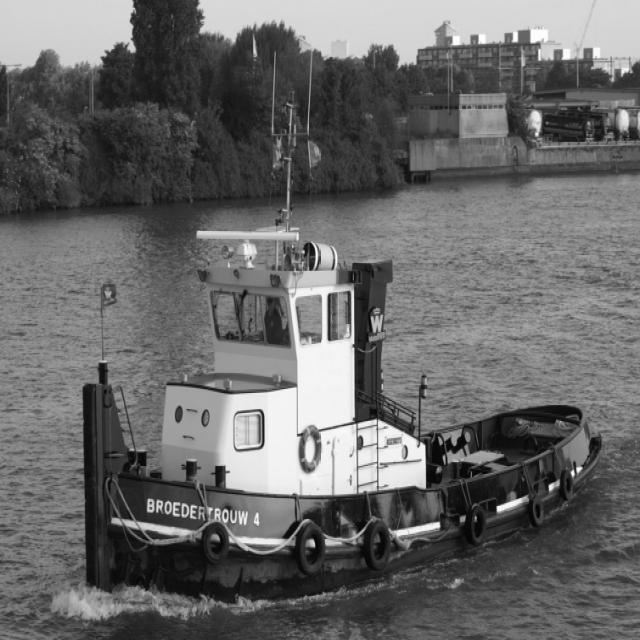tugboat: (76, 45, 608, 626)
